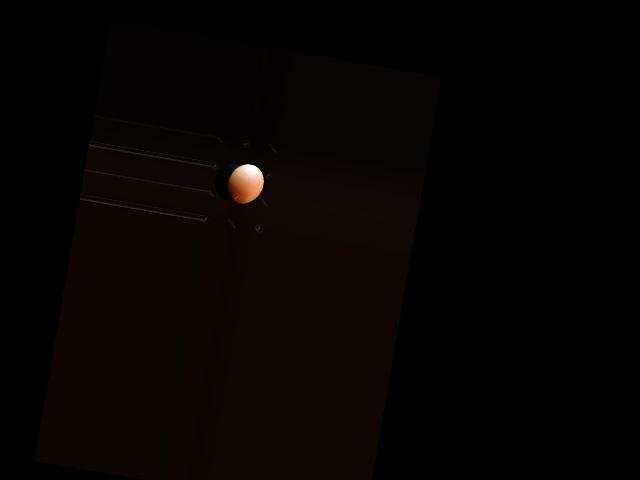egg: (224, 161, 266, 206)
